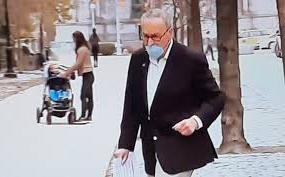mask_weared_incorrect: (140, 30, 165, 59)
